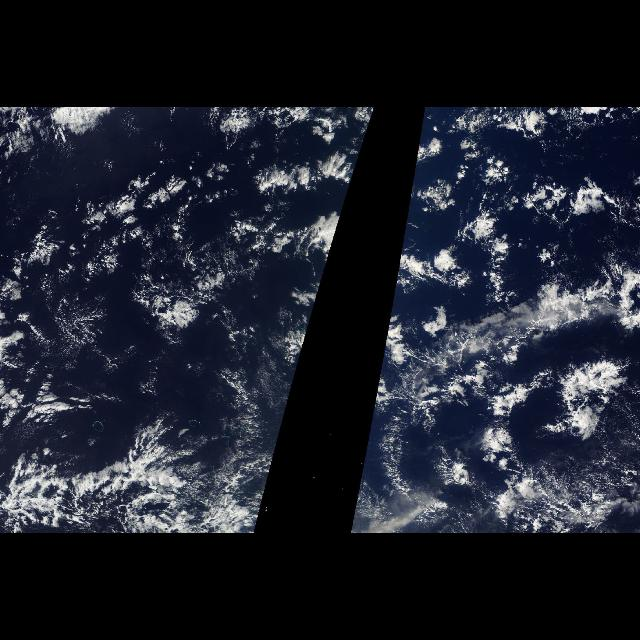Fish: (5, 416, 196, 530)
Flower: (349, 112, 637, 534), (140, 112, 374, 314)
